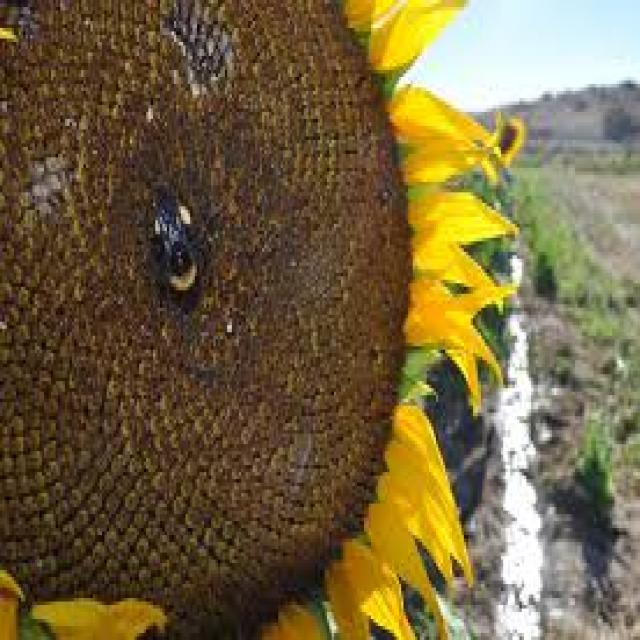sunflower: (485, 105, 531, 173)
